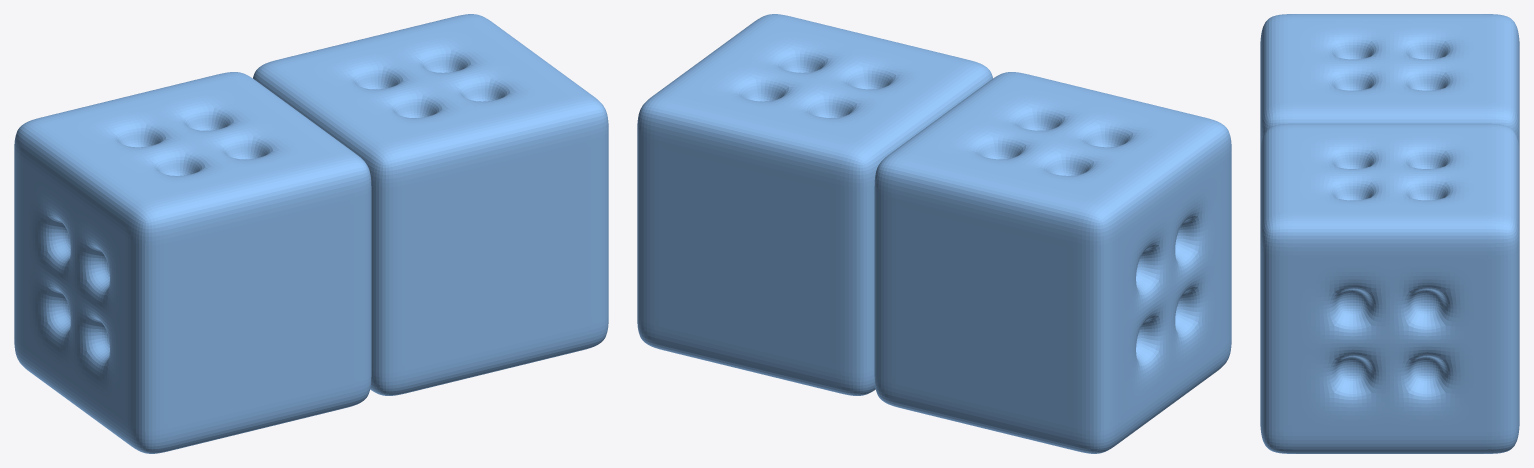
Rendered from s_blue_2.1.1.fbx.
The picture shows the model from 3 angles, left to right: view 1: azimuth 30°, elevation 25°; view 2: azimuth 150°, elevation 25°; view 3: azimuth 270°, elevation 25°; orthographic projection. The views are drawn at different scales.
Parts seen in each view (by area): view 1: Cube.002; view 2: Cube.002; view 3: Cube.002.
Boxes of the visible parts, box(x1,y1,x2,y2) form: Cube.002: box(14, 14, 608, 453); Cube.002: box(637, 14, 1231, 453); Cube.002: box(1260, 14, 1519, 453).
Bounding box in the file's own units: 200 × 100 × 100.
